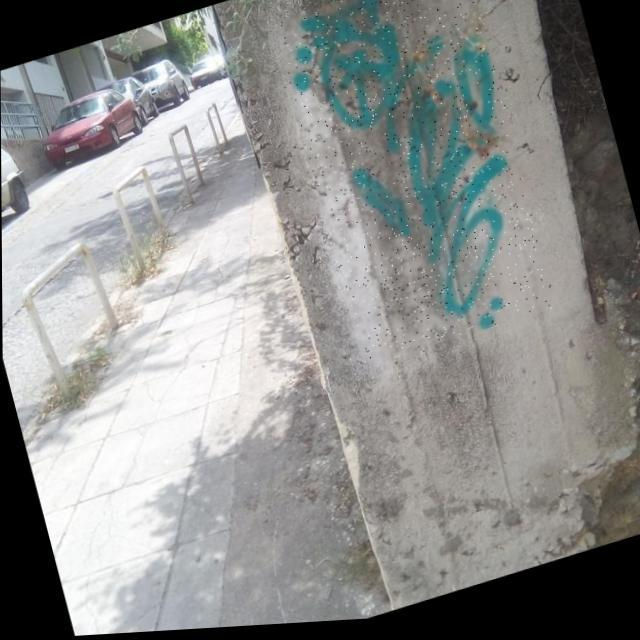-: (273, 0, 555, 374)
